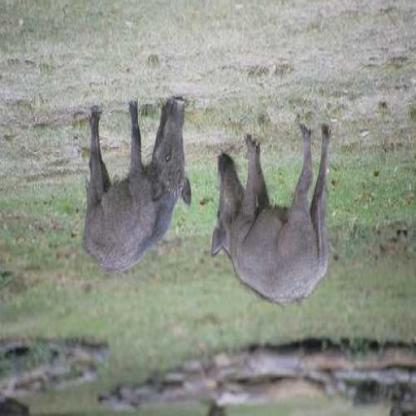boar: (48, 89, 198, 282), (210, 113, 343, 311)
